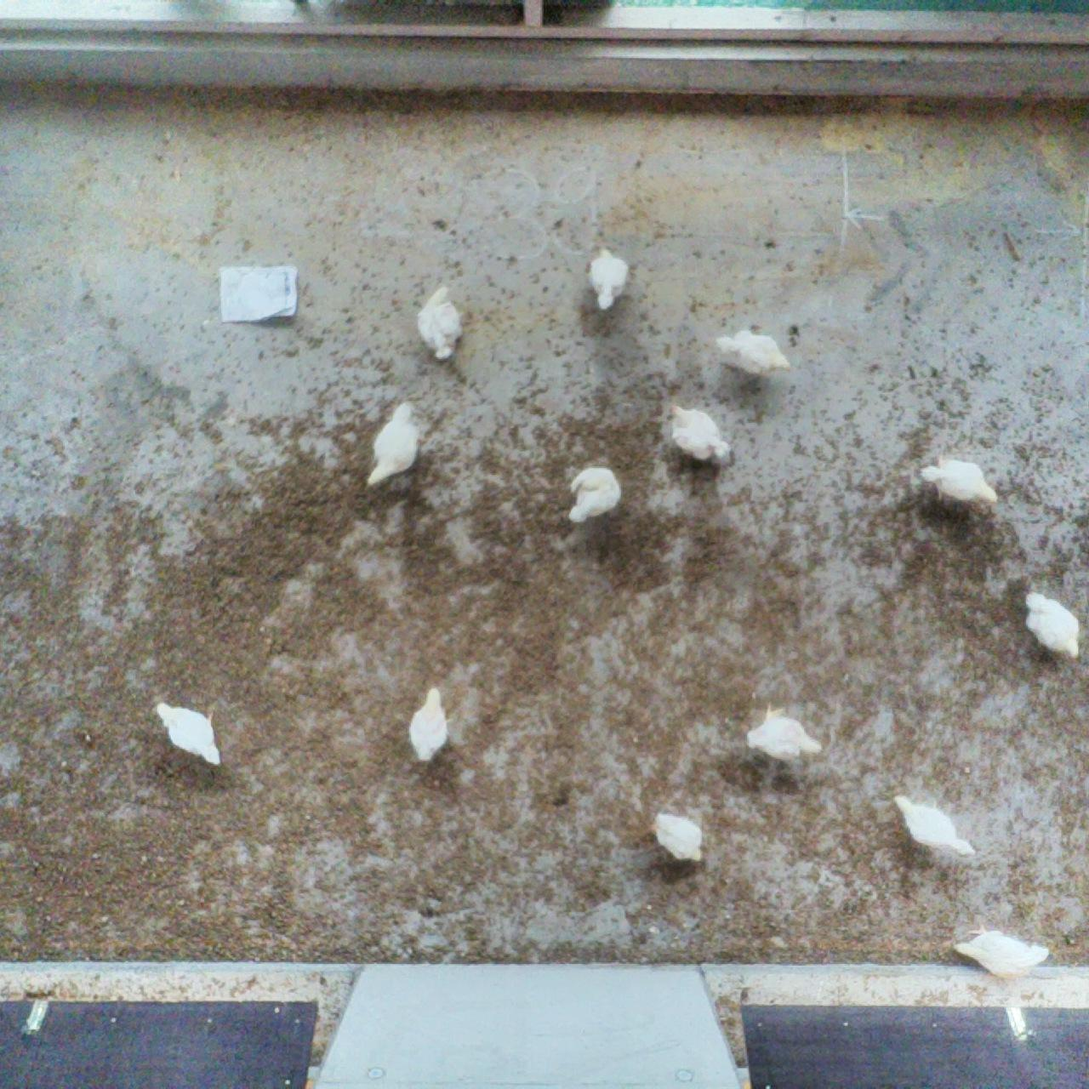chicken: (957, 927, 1059, 988), (360, 397, 429, 486), (912, 452, 1008, 514), (704, 324, 796, 388), (150, 696, 228, 770), (897, 793, 982, 860), (664, 399, 730, 475), (745, 710, 829, 767), (419, 280, 475, 364), (641, 804, 716, 866), (1023, 594, 1084, 662), (409, 683, 457, 769), (586, 246, 636, 316), (570, 467, 625, 526)
